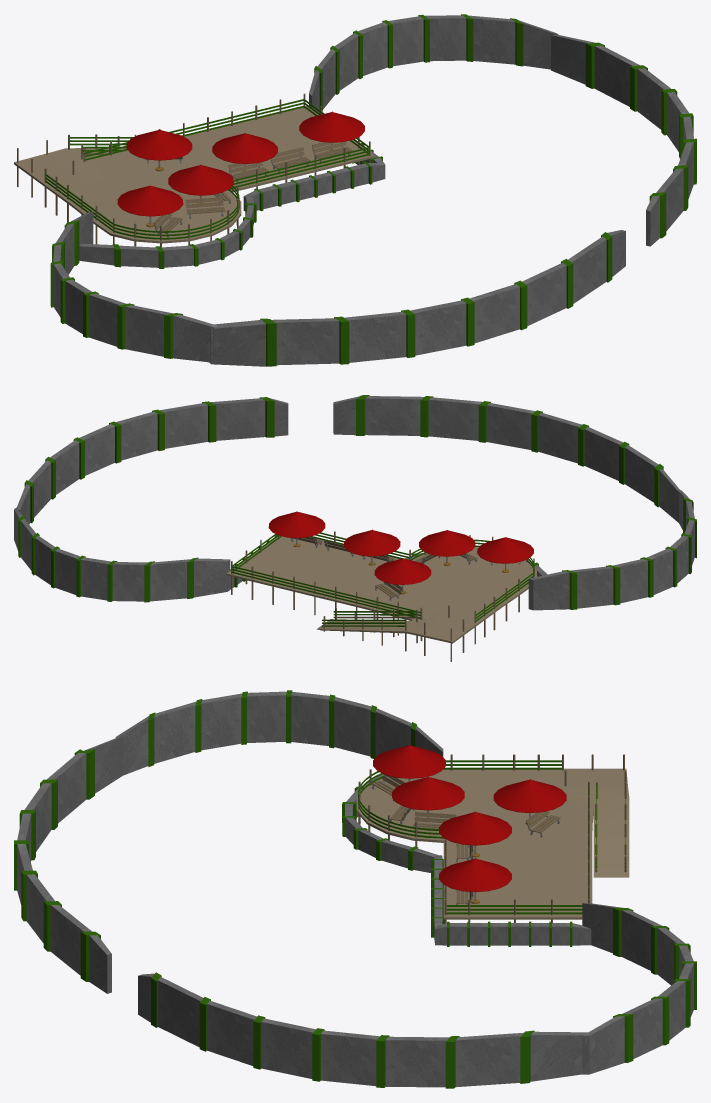
File: Rhino Enclosure.fbx
3 renders of one model, top to bottom at view 1: azimuth 30°, elevation 25°; view 2: azimuth 150°, elevation 25°; view 3: azimuth 270°, elevation 25°, orthographic. The views are drawn at different scales.
Visible parts, largest first — view 1: Wall, platform, Wall003, Wall001, Wall002, Wall005, Wall004, umbrella002, umbrella, umbrella001, umbrella004, umbrella003; view 2: platform, Wall, Wall001, Wall003, Wall002, umbrella001, umbrella002, umbrella003, umbrella004, umbrella; view 3: Wall001, platform, Wall002, Wall, Wall003, Wall006, Wall005, umbrella003, umbrella004, umbrella002, umbrella001, umbrella (+1 smaller).
Part boxes in pixels (box(x1,y1,x2,y2)): Wall: box(209, 230, 625, 366); platform: box(14, 106, 374, 243); Wall003: box(309, 14, 558, 113); Wall001: box(551, 34, 696, 246); Wall002: box(50, 211, 217, 362); Wall005: box(79, 196, 256, 268); Wall004: box(243, 162, 383, 211); umbrella002: box(126, 129, 192, 171); umbrella: box(117, 185, 183, 227); umbrella001: box(168, 164, 233, 203); umbrella004: box(212, 133, 277, 172); umbrella003: box(299, 111, 364, 150); platform: box(226, 536, 536, 643); Wall: box(333, 395, 679, 522); Wall001: box(17, 397, 288, 524); Wall003: box(14, 507, 230, 602); Wall002: box(528, 489, 696, 610); umbrella001: box(419, 530, 475, 565); umbrella002: box(374, 558, 431, 594); umbrella003: box(268, 511, 325, 547); umbrella004: box(344, 529, 400, 565); umbrella: box(477, 537, 533, 572); Wall001: box(138, 972, 587, 1088); platform: box(356, 768, 629, 919); Wall002: box(115, 690, 443, 775); Wall: box(14, 736, 123, 993); Wall003: box(582, 903, 696, 1074); Wall006: box(435, 921, 591, 946); Wall005: box(342, 774, 439, 872); umbrella003: box(439, 858, 511, 903); umbrella004: box(439, 811, 511, 857); umbrella002: box(493, 779, 566, 824); umbrella001: box(392, 776, 464, 822); umbrella: box(373, 745, 445, 781).
Bounding box in the file's own units: 69.1 × 6.51 × 56.69.
